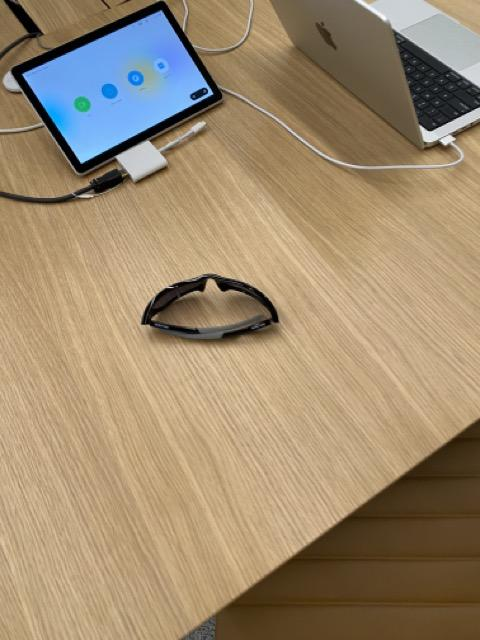Sunglasses: (142, 271, 279, 342)
